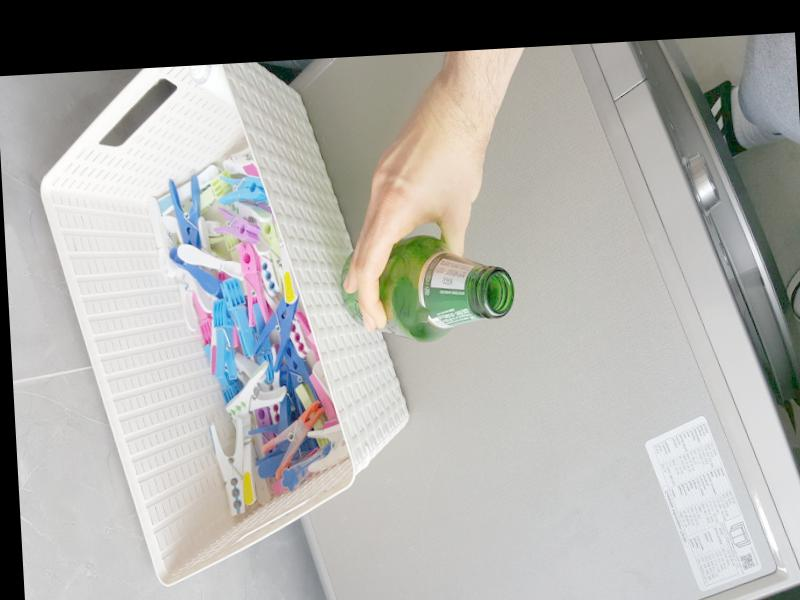Beer: (339, 231, 516, 346)
